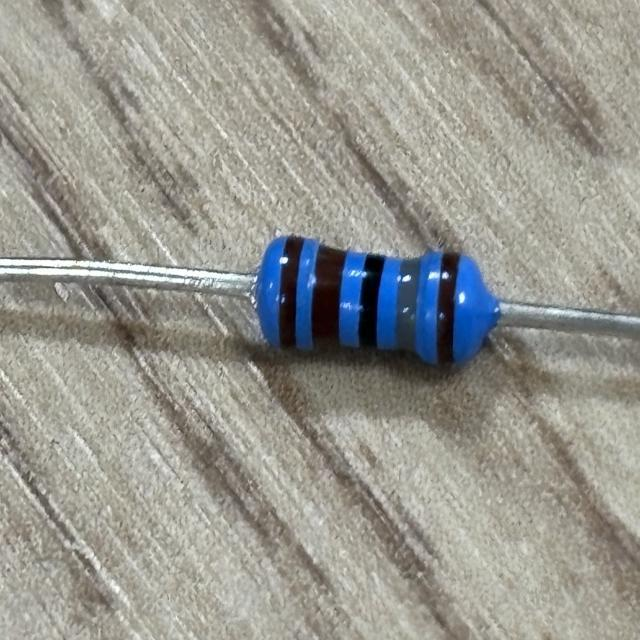resistor: (260, 227, 485, 381)
